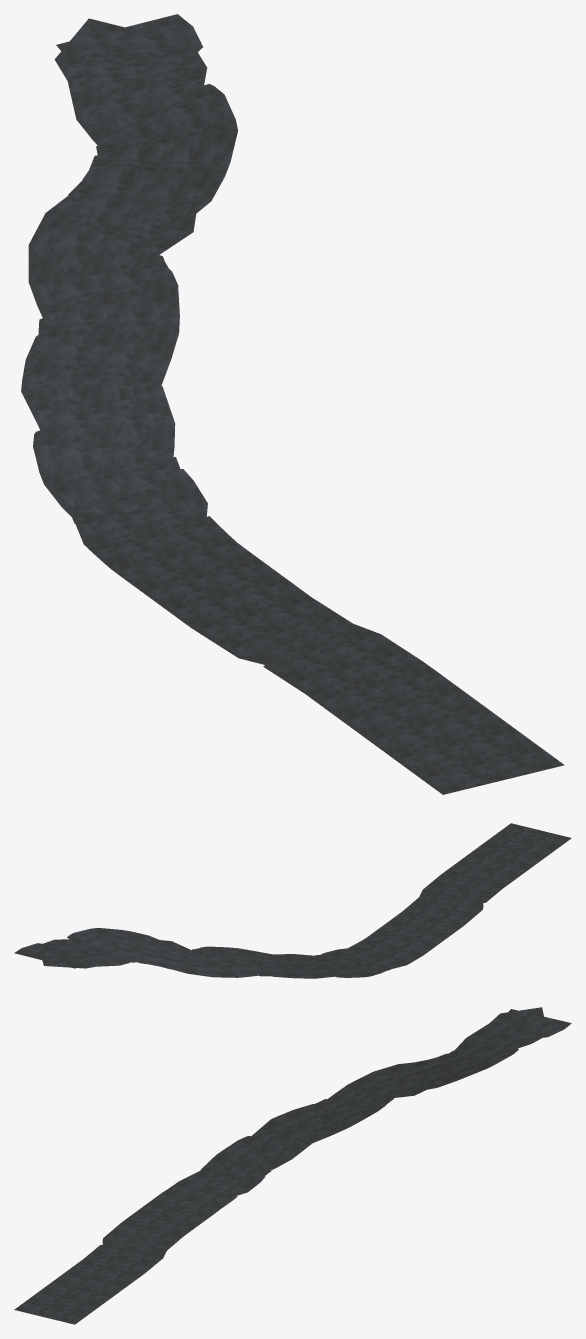
File: RD-ROAD-022.obj
The picture shows the model from 3 angles, top to bottom: view 1: azimuth 30°, elevation 25°; view 2: azimuth 150°, elevation 25°; view 3: azimuth 330°, elevation 25°; orthographic projection. The views are drawn at different scales.
Visible parts, largest first — view 1: RD-ROAD-022; view 2: RD-ROAD-022; view 3: RD-ROAD-022.
Boxes of the visible parts, x1,y1,x2,y2 form: RD-ROAD-022: [21, 14, 564, 794]; RD-ROAD-022: [14, 823, 571, 978]; RD-ROAD-022: [14, 1007, 571, 1324].
Bounding box in the file's own units: 29.09 × 10.96 × 80.17.
1 material, 1 textured.
